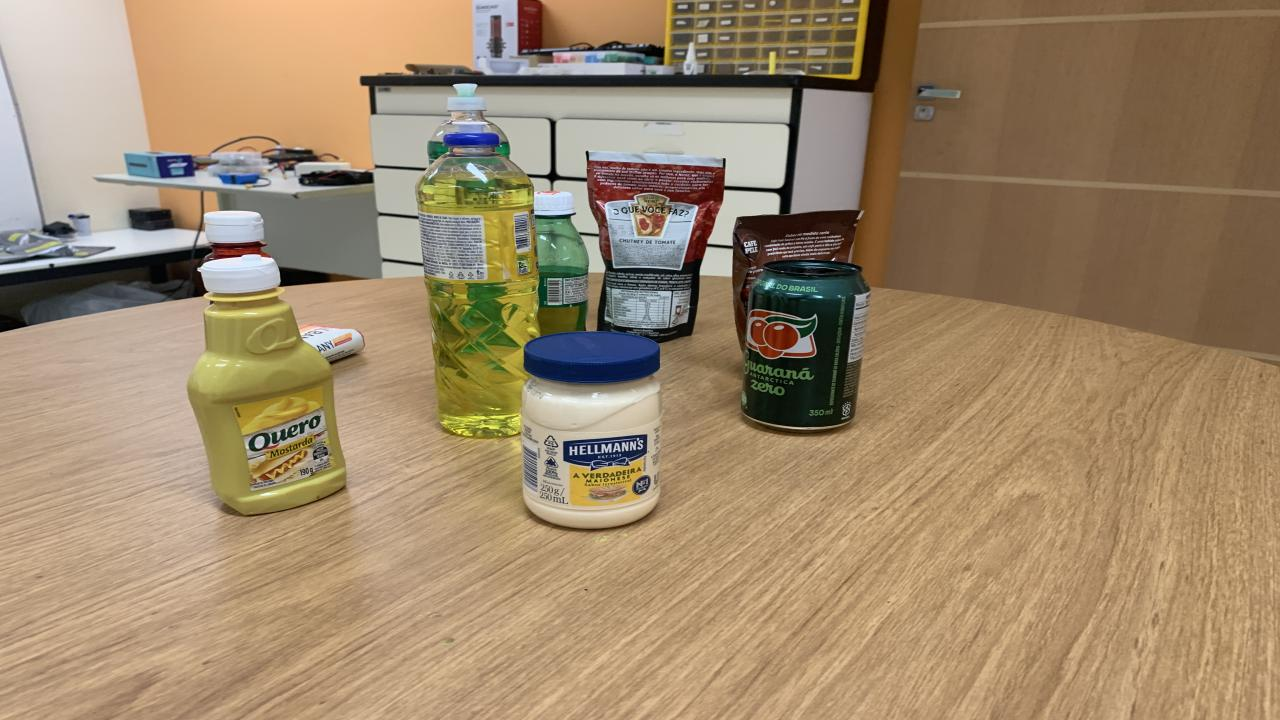Coffee-Pantry_Items: (732, 210, 862, 349)
Detergent-Cleanup_Items: (415, 122, 540, 437), (428, 82, 510, 163)
Guarana-Drinks: (535, 191, 590, 336)
Guarana_Can-Drinks: (740, 259, 870, 429)
Ketchup-Pantry_Items: (202, 210, 270, 261)
Mayonnaise-Pantry_Items: (520, 332, 662, 529)
Mustard-Pantry_Items: (188, 255, 345, 514)
Soap-Cleanup_Items: (300, 324, 365, 362)
Tomato_Sauce-Pantry_Items: (588, 150, 725, 341)
